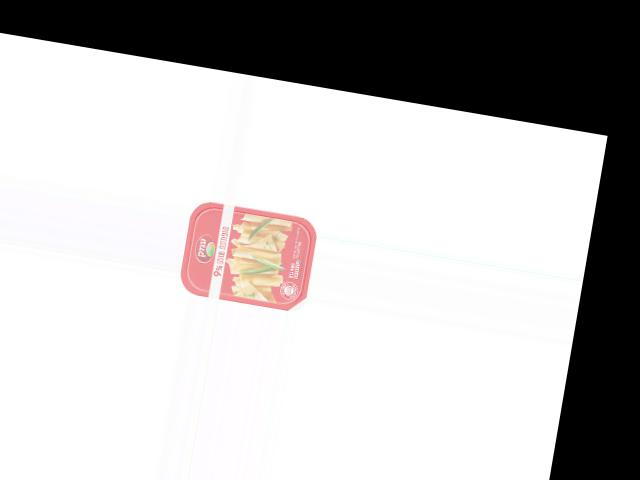cheese: (177, 197, 320, 313)
